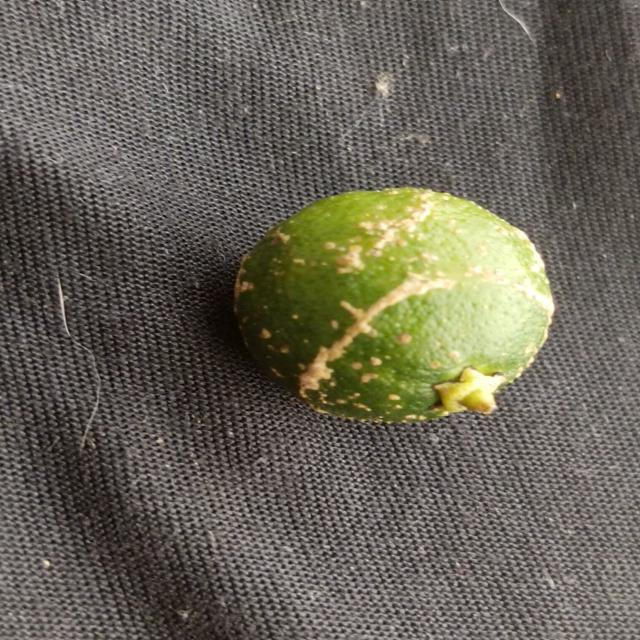scab: (229, 184, 573, 422)
